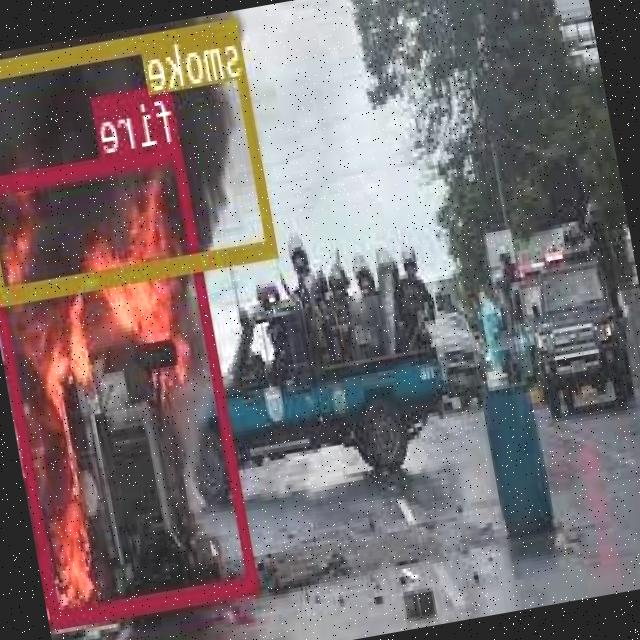fire: (0, 141, 259, 624)
smoke: (0, 14, 278, 299)
